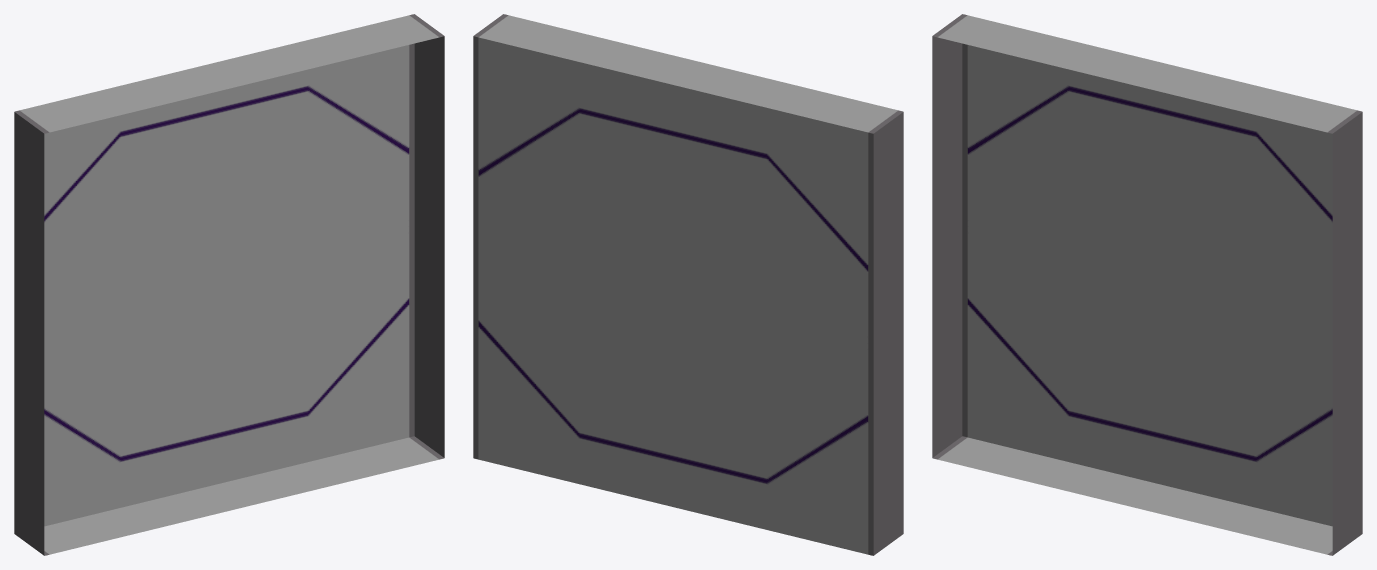
The model's file is KF_SM_SmallPlane2.fbx.
The picture shows the model from 3 angles, left to right: view 1: azimuth 30°, elevation 25°; view 2: azimuth 150°, elevation 25°; view 3: azimuth 330°, elevation 25°; orthographic projection.
Visible parts, largest first — view 1: KF_SM_SmallPlane2; view 2: KF_SM_SmallPlane2; view 3: KF_SM_SmallPlane2.
Part boxes in pixels (left/top/right/bottom): KF_SM_SmallPlane2: left=14, top=14, right=444, bottom=555; KF_SM_SmallPlane2: left=473, top=14, right=903, bottom=555; KF_SM_SmallPlane2: left=932, top=14, right=1362, bottom=555.
Bounding box in the file's own units: 2475 × 324 × 2494.
